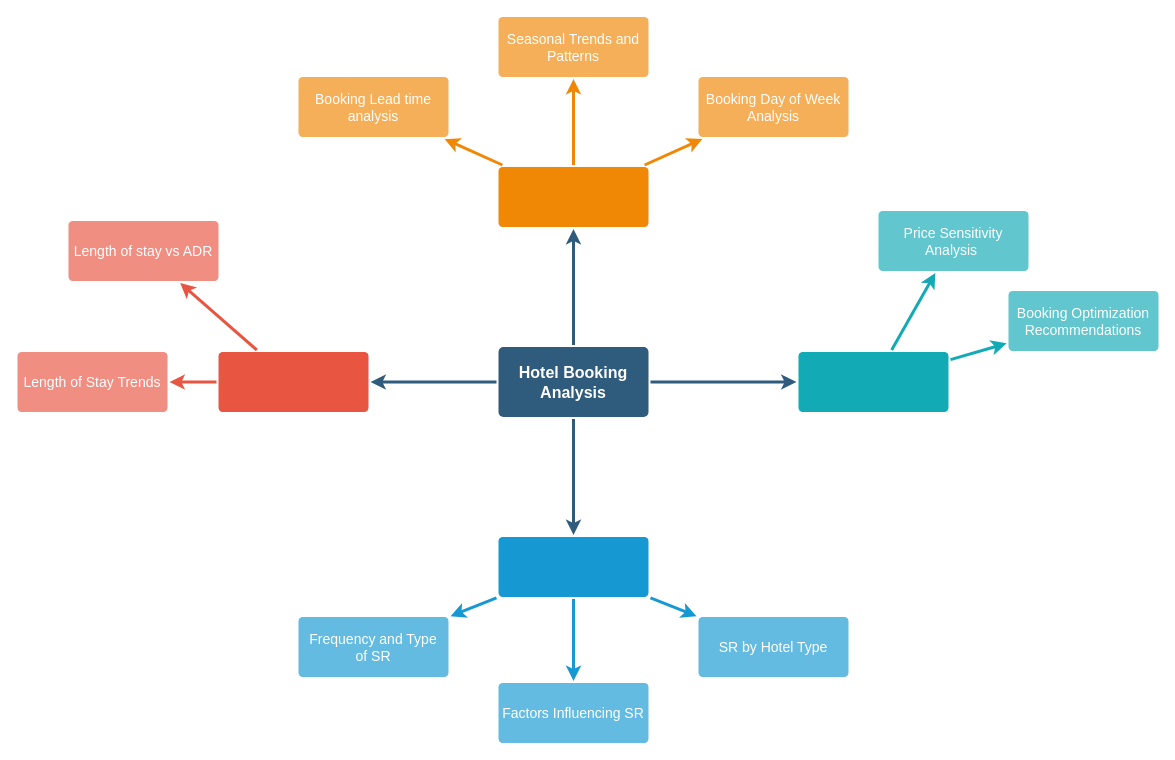
The diagram is 1175 pixels wide and 760 high, and some of its shapes have lost their labels. Here are the shapes that lost their labels. From the top down, the box of each, then its label:
(498, 166, 648, 226): Booking timing and patterns
(218, 352, 368, 412): Optimal Length of Stay
(798, 352, 948, 412): Revenue Oprimization
(498, 536, 648, 596): Special Requests Analysis
